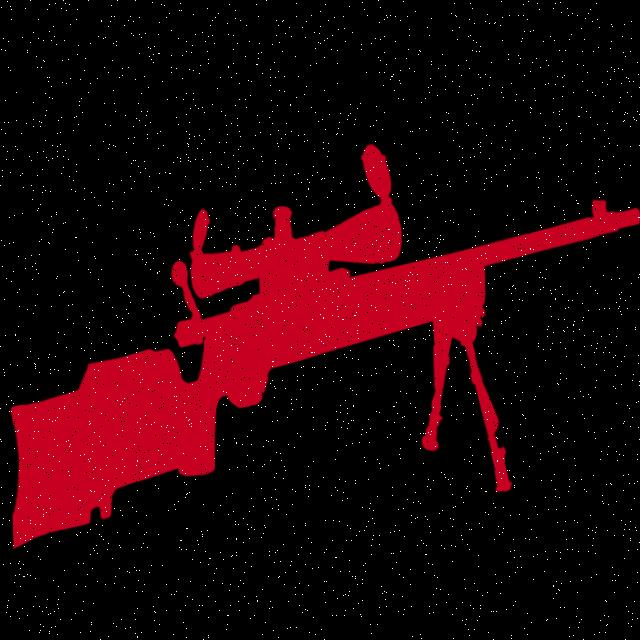firearm: (2, 129, 640, 553)
